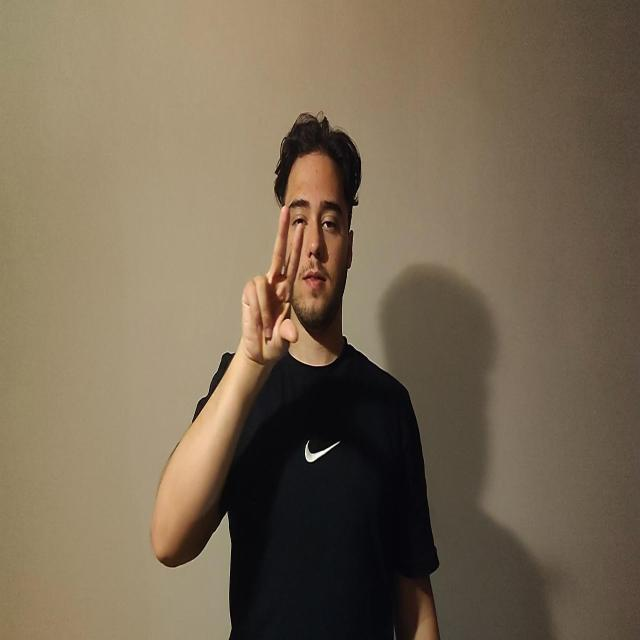no: (240, 204, 304, 367)
